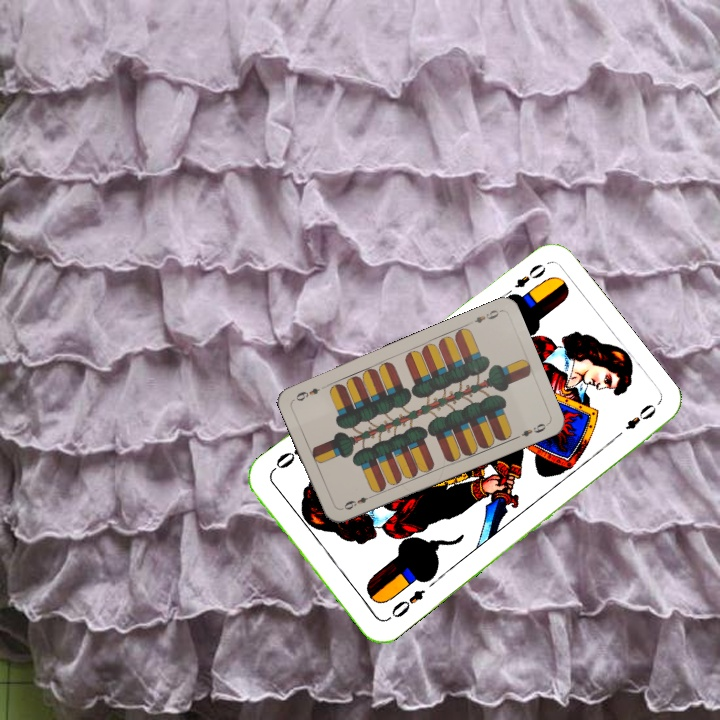E9: (464, 305, 501, 327), (340, 491, 376, 512)
EO: (387, 585, 428, 621), (510, 259, 549, 291)
